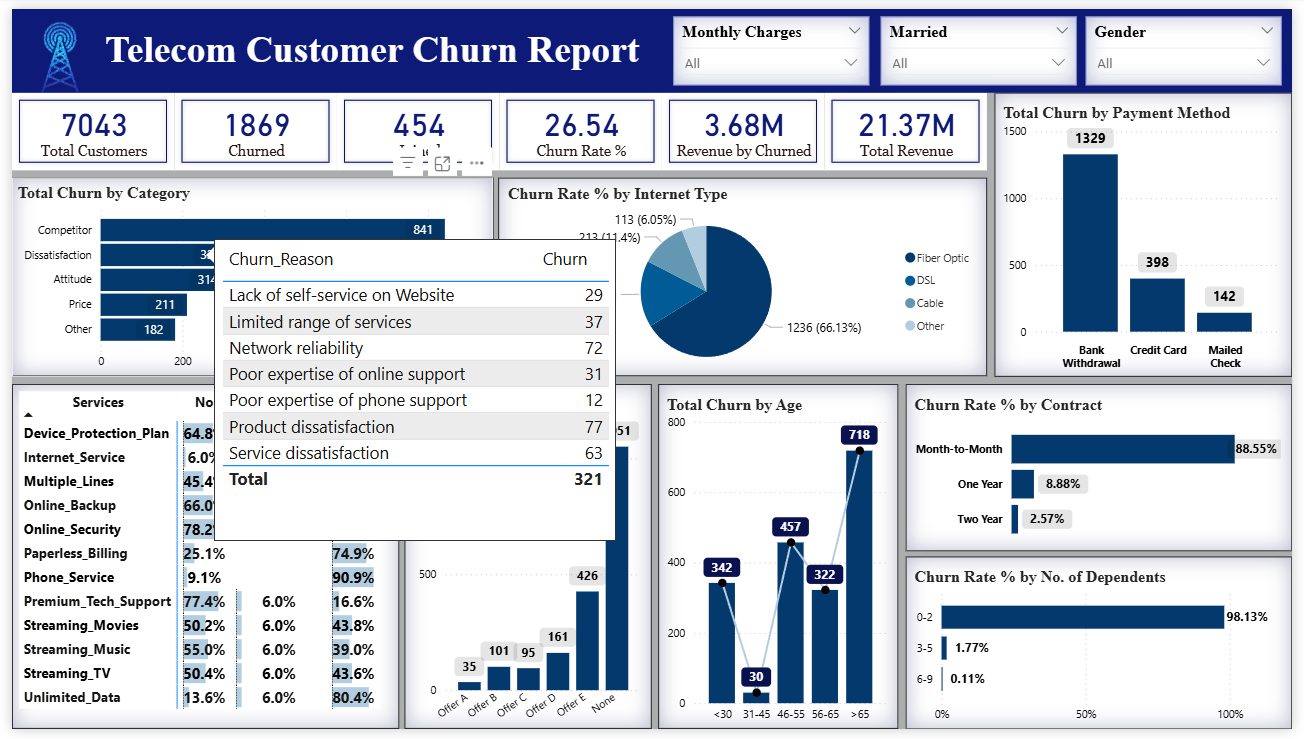

Layout of this report page (visuals, bound fields, positions):
{"tool":"powerbi","page":{"name":"Dashborad","canvas":[1280,720],"ordinal":0},"visuals":[{"type":"shape","box":[0,0,1280,83.8],"z":0,"group":"g1"},{"type":"cardVisual","fields":{"Data":["customer_churn_analysis.Total Customers"]},"box":[0,83.8,162.5,77.5],"z":0},{"type":"textbox","box":[49,14,623,55],"z":1000,"group":"g1"},{"type":"cardVisual","fields":{"Data":["customer_churn_analysis.Joined"]},"box":[325,83.8,162.5,77.5],"z":1000},{"type":"image","box":[0,0,178,94],"z":2000,"group":"g1"},{"type":"cardVisual","fields":{"Data":["customer_churn_analysis.Measure"]},"box":[487.5,83.8,162.5,77.5],"z":2000},{"type":"cardVisual","fields":{"Data":["customer_churn_analysis.Churned"]},"box":[162.5,83.8,162.5,77.5],"z":3000},{"type":"barChart","title":"Total Churn by Category","fields":{"Category":["customer_churn_analysis.Churn_Category"],"Y":["Sum(customer_churn_analysis.Churned_Customers)"]},"box":[0,168.8,481.2,198.8],"z":4000},{"type":"columnChart","title":"Total Churn by Offer","fields":{"Category":["customer_churn_analysis.Offer"],"Y":["Sum(customer_churn_analysis.Churned_Customers)"]},"box":[392.5,375,247.5,345],"z":5000},{"type":"cardVisual","fields":{"Data":["customer_churn_analysis.Revenue by Churned"]},"box":[650,83.8,162.5,77.5],"z":6000},{"type":"cardVisual","fields":{"Data":["customer_churn_analysis.Total Revenue"]},"box":[812.5,83.8,162.5,77.5],"z":7000},{"type":"barChart","title":"Churn Rate % by Contract","fields":{"Category":["customer_churn_analysis.Contract"],"Y":["Sum(customer_churn_analysis.Churned_Customers)"]},"box":[893.8,375,386.2,167.5],"z":8000},{"type":"columnChart","title":"Total Churn by Payment Method","fields":{"Category":["customer_churn_analysis.Payment_Method"],"Y":["Sum(customer_churn_analysis.Churned_Customers)"]},"box":[982.5,83.8,297.5,283.8],"z":9000},{"type":"barChart","title":"Churn Rate % by No. of Dependents","fields":{"Category":["customer_churn_analysis.Dependents Group"],"Y":["Divide(Sum(customer_churn_analysis.Churned_Customers), ScopedEval(Sum(customer_churn_analysis.Churned_Customers), []))"]},"box":[893.8,547.5,386.2,172.5],"z":10000},{"type":"lineStackedColumnComboChart","title":"Total Churn by Age","fields":{"Category":["customer_churn_analysis.Age_Group"],"Y":["Sum(customer_churn_analysis.Churned_Customers)"],"Y2":["Sum(customer_churn_analysis.Churned_Customers)"]},"box":[646.2,375,240,345],"z":11000},{"type":"pivotTable","title":"Churn Rate % by Services","fields":{"Values":["Sum(customer_churn_analysis (2).Churned_Customers)"],"Rows":["Services_Columns.Services"],"Columns":["Services_Columns.Status"]},"box":[0,375,387.5,345],"z":12000},{"type":"slicer","fields":{"Values":["Services_Columns.Monthly_Charge (bins)","customer_churn_analysis.Churned_Customers"]},"box":[652.5,17.5,196.2,58.8],"z":13000},{"type":"group","id":"g1","title":"Group 1","box":[0,0,1280,94],"z":14000},{"type":"slicer","fields":{"Values":["customer_churn_analysis.Gender","customer_churn_analysis.Churned_Customers"]},"box":[1073.8,7.5,196.2,69],"z":15000},{"type":"slicer","fields":{"Values":["customer_churn_analysis.Married","customer_churn_analysis.Churned_Customers"]},"box":[868.8,7.5,196.2,68.8],"z":16000},{"type":"slicer","fields":{"Values":["customer_churn_analysis.Monthly_Charge (bins)"]},"box":[661.2,7.5,196.2,68.8],"z":17000},{"type":"pieChart","title":"Churn Rate % by Internet Type","fields":{"Category":["customer_churn_analysis.Internet_Type"],"Y":["Sum(customer_churn_analysis.Churned_Customers)"]},"box":[486.2,168.8,488.8,198.8],"z":18000}]}

Visuals, with their boxes in screenshot pixels (x1, y1, x2, y2), scaled from the page's 1280x720 canvas onto the 1304x739 screenshot:
shape: [x1=0, y1=0, x2=1303, y2=86]
cardVisual - customer_churn_analysis.Total Customers: [x1=0, y1=86, x2=166, y2=166]
textbox: [x1=50, y1=14, x2=685, y2=71]
cardVisual - customer_churn_analysis.Joined: [x1=331, y1=86, x2=497, y2=166]
image: [x1=0, y1=0, x2=181, y2=96]
cardVisual - customer_churn_analysis.Measure: [x1=497, y1=86, x2=662, y2=166]
cardVisual - customer_churn_analysis.Churned: [x1=166, y1=86, x2=331, y2=166]
"Total Churn by Category" barChart: [x1=0, y1=173, x2=490, y2=377]
"Total Churn by Offer" columnChart: [x1=400, y1=385, x2=652, y2=738]
cardVisual - customer_churn_analysis.Revenue by Churned: [x1=662, y1=86, x2=828, y2=166]
cardVisual - customer_churn_analysis.Total Revenue: [x1=828, y1=86, x2=993, y2=166]
"Churn Rate % by Contract" barChart: [x1=911, y1=385, x2=1303, y2=557]
"Total Churn by Payment Method" columnChart: [x1=1001, y1=86, x2=1303, y2=377]
"Churn Rate % by No. of Dependents" barChart: [x1=911, y1=562, x2=1303, y2=738]
"Total Churn by Age" lineStackedColumnComboChart: [x1=658, y1=385, x2=903, y2=738]
"Churn Rate % by Services" pivotTable: [x1=0, y1=385, x2=395, y2=738]
slicer - Services_Columns.Monthly_Charge (bins) x customer_churn_analysis.Churned_Customers: [x1=665, y1=18, x2=865, y2=78]
"Group 1" group: [x1=0, y1=0, x2=1303, y2=96]
slicer - customer_churn_analysis.Gender x customer_churn_analysis.Churned_Customers: [x1=1094, y1=8, x2=1294, y2=79]
slicer - customer_churn_analysis.Married x customer_churn_analysis.Churned_Customers: [x1=885, y1=8, x2=1085, y2=78]
slicer - customer_churn_analysis.Monthly_Charge (bins): [x1=674, y1=8, x2=873, y2=78]
"Churn Rate % by Internet Type" pieChart: [x1=495, y1=173, x2=993, y2=377]
